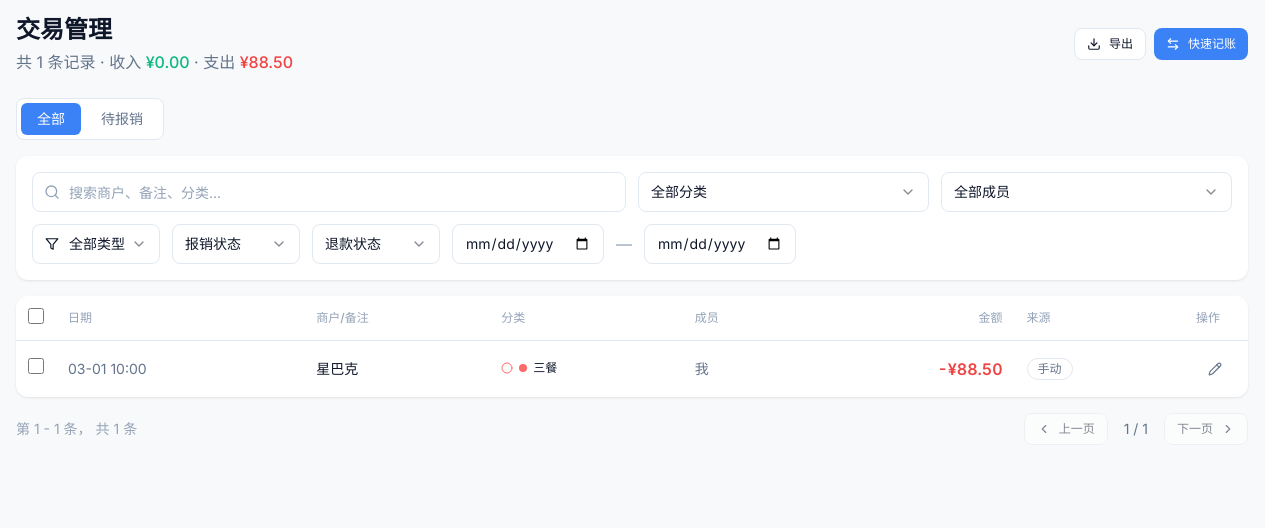
Test: TransactionListPage - 移除批量修改分类入口（Bug 修复） › ① 选中交易后批量栏仅含 全选/批量删除/取消，无「修改分类」
Expected: the text "星巴克" is shown, left=316, top=358, right=358, bottom=378
Expected: the text "已选择" is not shown
Click the checkbox next to "03-01 10:00".
click(36, 366)  # box left=28, top=358, right=44, bottom=374
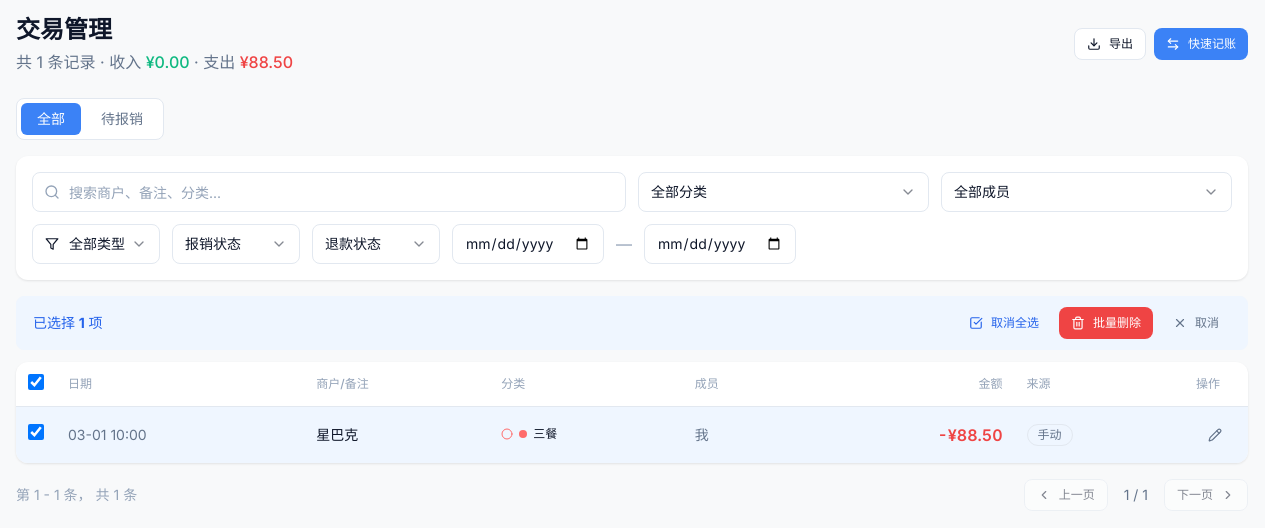
Expected: the text "已选择 1 项" is shown, left=33, top=313, right=102, bottom=333
Expected: the button "取消全选" is shown, left=957, top=307, right=1051, bottom=339
Expected: the button "批量删除" is shown, left=1059, top=307, right=1153, bottom=339
